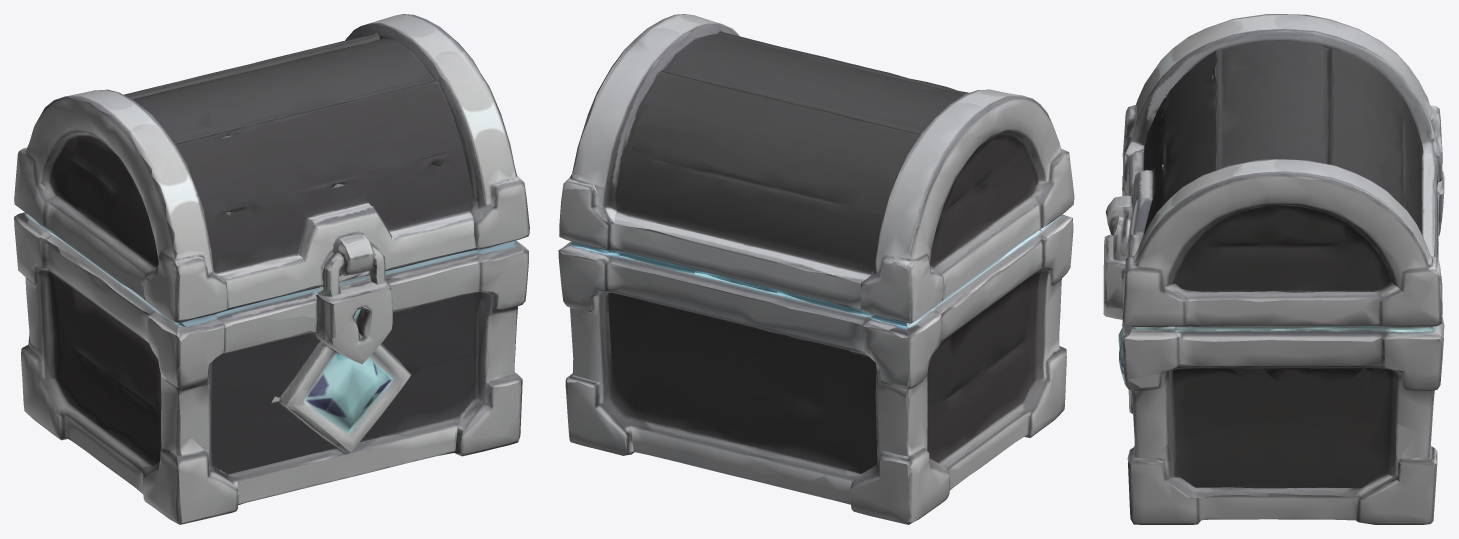
File: chest.glb
3 renders of one model, left to right at view 1: azimuth 30°, elevation 25°; view 2: azimuth 150°, elevation 25°; view 3: azimuth 270°, elevation 25°, orthographic. The views are drawn at different scales.
Parts seen in each view (by area): view 1: geometry_0; view 2: geometry_0; view 3: geometry_0.
Part boxes in pixels (x1,y1,x2,y2): geometry_0: (14, 14, 529, 524); geometry_0: (558, 14, 1074, 524); geometry_0: (1103, 14, 1444, 524).
Bounding box in the file's own units: 0.45 × 0.434 × 0.3816.
1 material, 1 textured.
